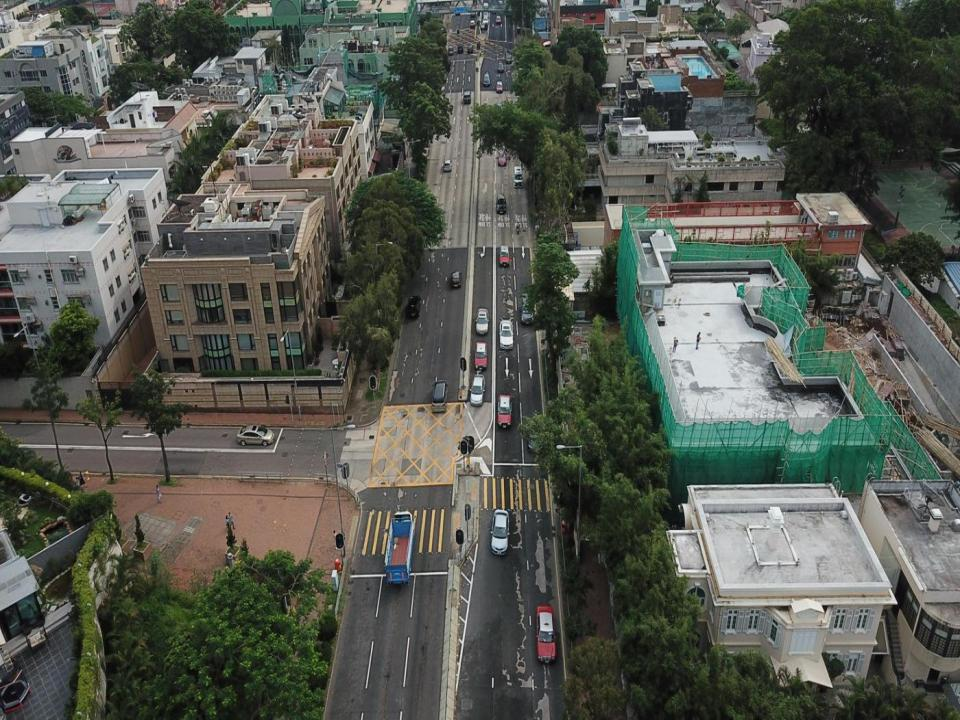car: (534, 604, 558, 663), (490, 505, 508, 553), (236, 424, 274, 446), (496, 391, 512, 429), (469, 373, 485, 406), (499, 320, 514, 348), (473, 339, 486, 370), (476, 307, 489, 334), (408, 295, 420, 322), (499, 244, 510, 266), (449, 268, 461, 288), (496, 150, 505, 166), (443, 159, 452, 171), (480, 18, 488, 31), (483, 72, 490, 86), (496, 80, 502, 93), (482, 9, 489, 18), (498, 60, 503, 72), (467, 44, 473, 54), (469, 19, 474, 27), (484, 2, 488, 12), (497, 15, 501, 21)
truck: (385, 510, 414, 588)
van: (520, 290, 535, 324), (433, 380, 447, 413), (496, 194, 507, 214), (514, 164, 523, 188), (464, 89, 472, 103), (458, 42, 464, 53), (448, 44, 453, 54)
